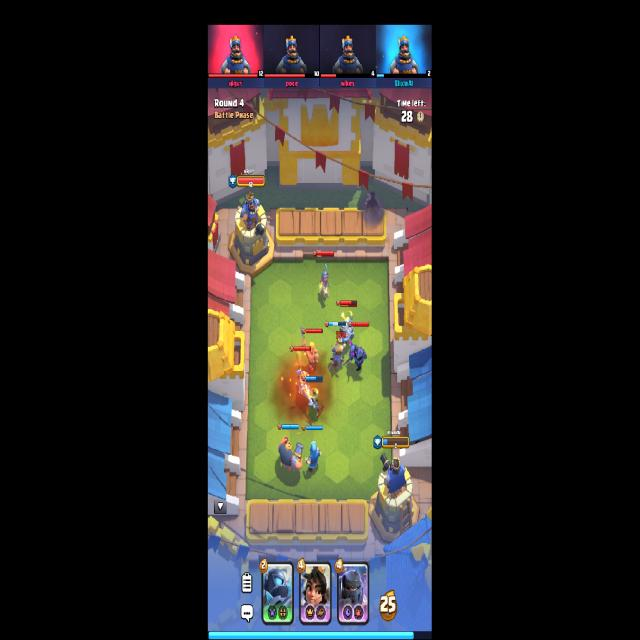bandit: (310, 391, 324, 420)
barbarian: (300, 326, 319, 367)
card_mega_knight: (336, 560, 369, 624)
card_mini_pekka: (262, 562, 294, 627)
card_princess: (298, 560, 332, 624)
musketeer: (318, 264, 330, 299)
pekka: (343, 341, 368, 373)
prince: (296, 370, 312, 403), (331, 337, 346, 371)
royal_ghost: (340, 317, 355, 347)
royal_giant: (277, 436, 303, 472)
wizard: (306, 442, 321, 473)
